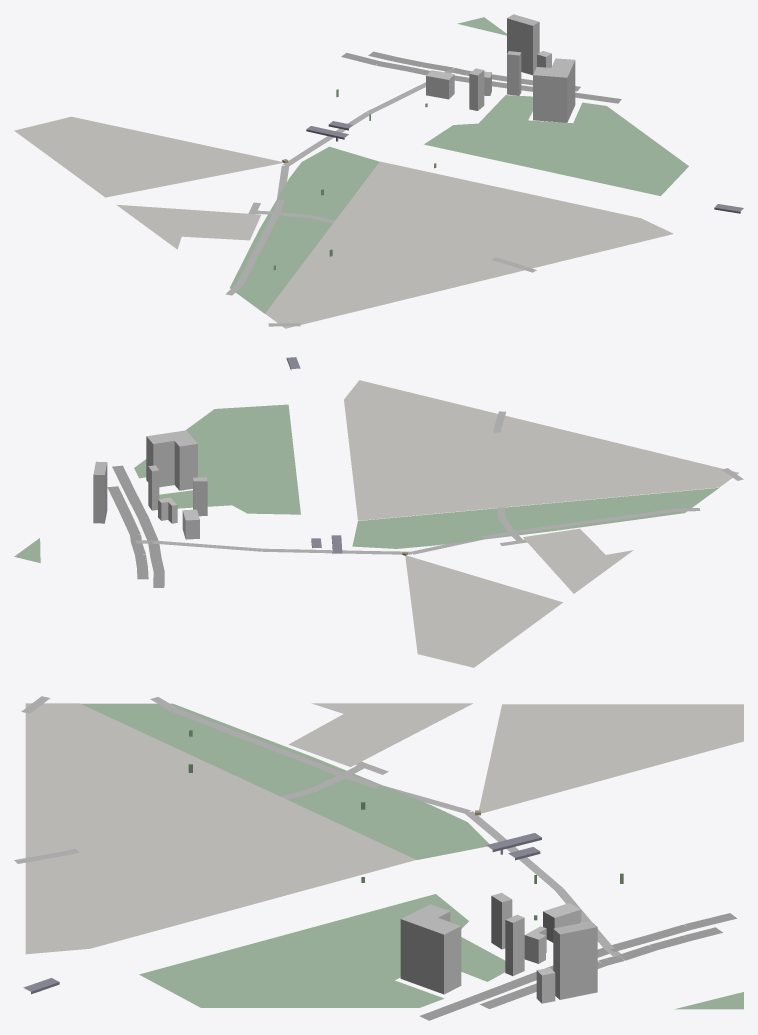
3 views of the same model, one above another, from view 1: azimuth 30°, elevation 25°; view 2: azimuth 150°, elevation 25°; view 3: azimuth 270°, elevation 25° (orthographic). The views are drawn at different scales.
Bounding box in the file's own units: 531 × 50.49 × 508.
